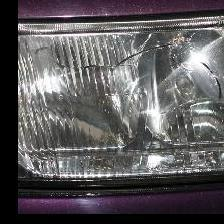head_lamp: (75, 36, 223, 88)
